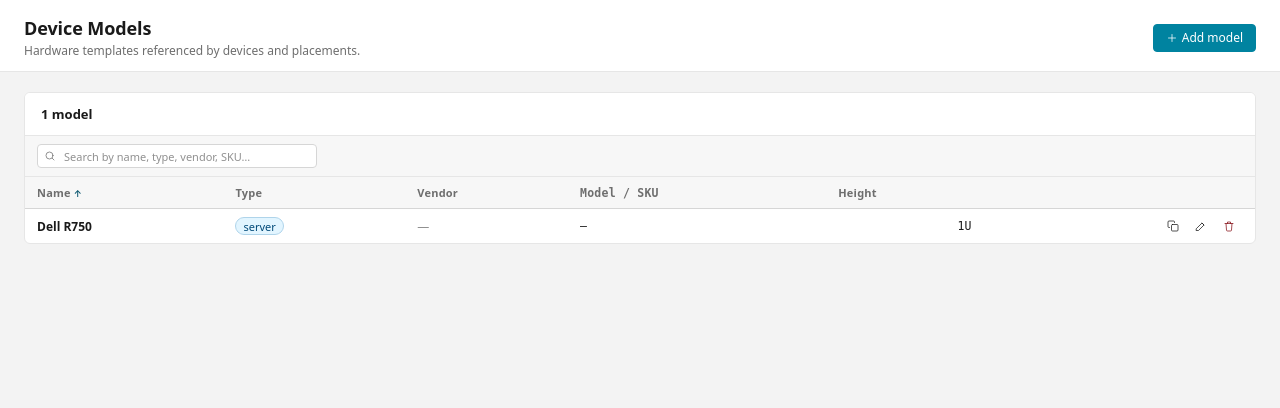
Scenario: DeviceModelsPanel — search › search with no match shows no-match empty state
This screenshot has width=1280, height=408.
Expected: the text "Dell R750" is shown, [37,218,92,234]
In the field with placeholder "Search by name, type, vendor, SKU…": (177, 156) [37,144,317,168], type "zzz-no-match"
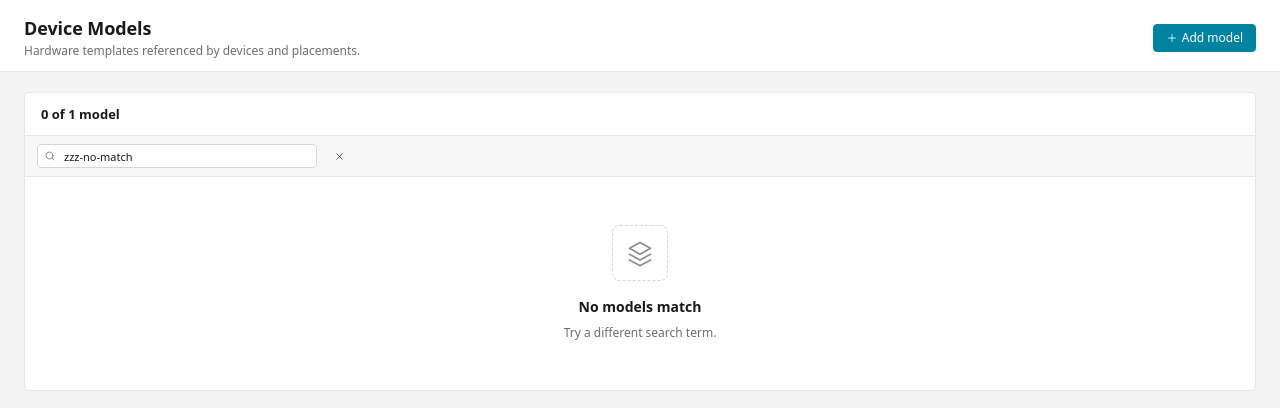
Now the text "No models match" is shown, box [579,297,701,316]
